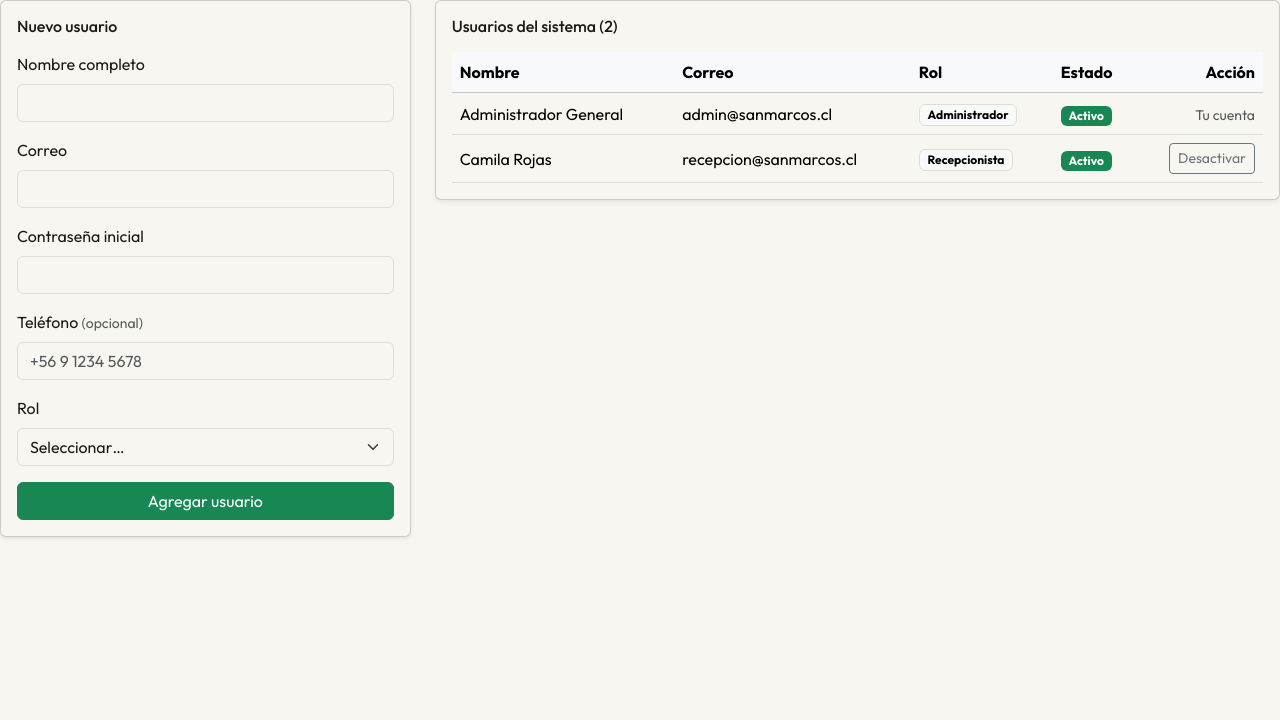
Scenario: UsuariosPanel (formulario con validación) › muestra error de correo duplicado
The width and height of the screenshot is (1280, 720).
Step 1. Type "Otra Persona" into the field labelled "Nombre completo" → (205, 103), box [17,84,394,122]
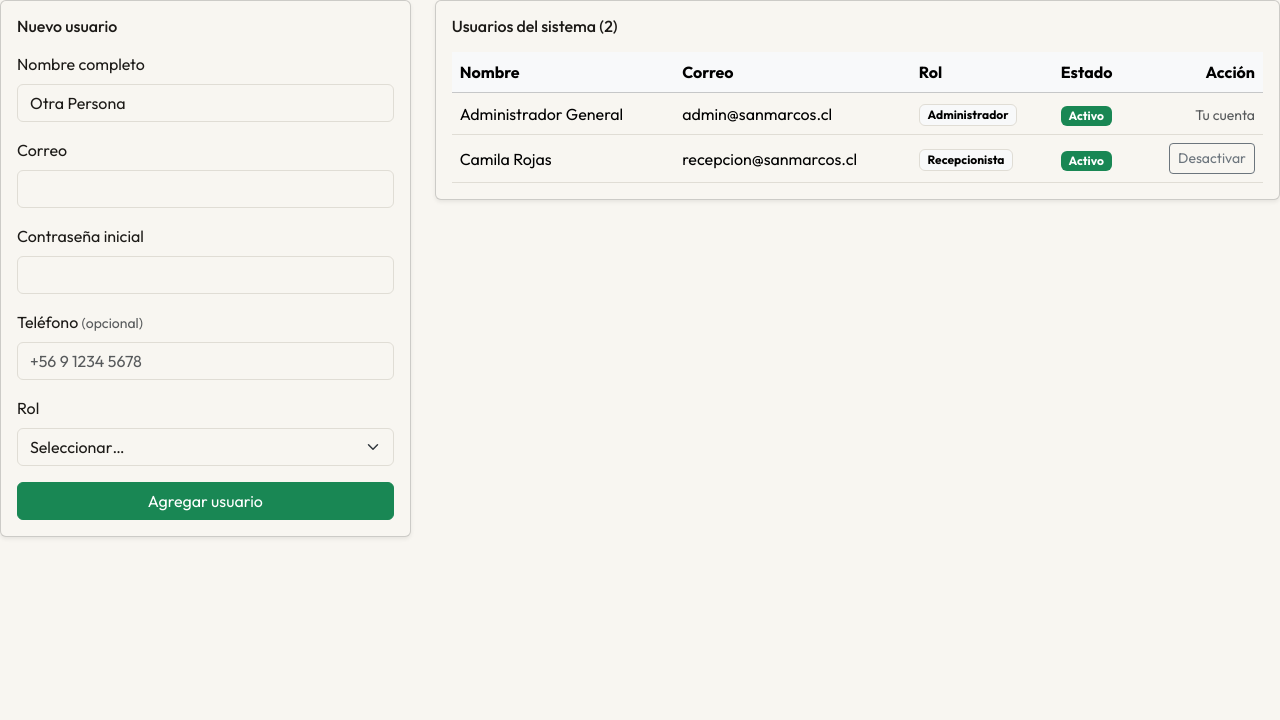
Step 2. Type "recepcion@sanmarcos.cl" into the field labelled "Correo" → (205, 189), box [17,170,394,208]
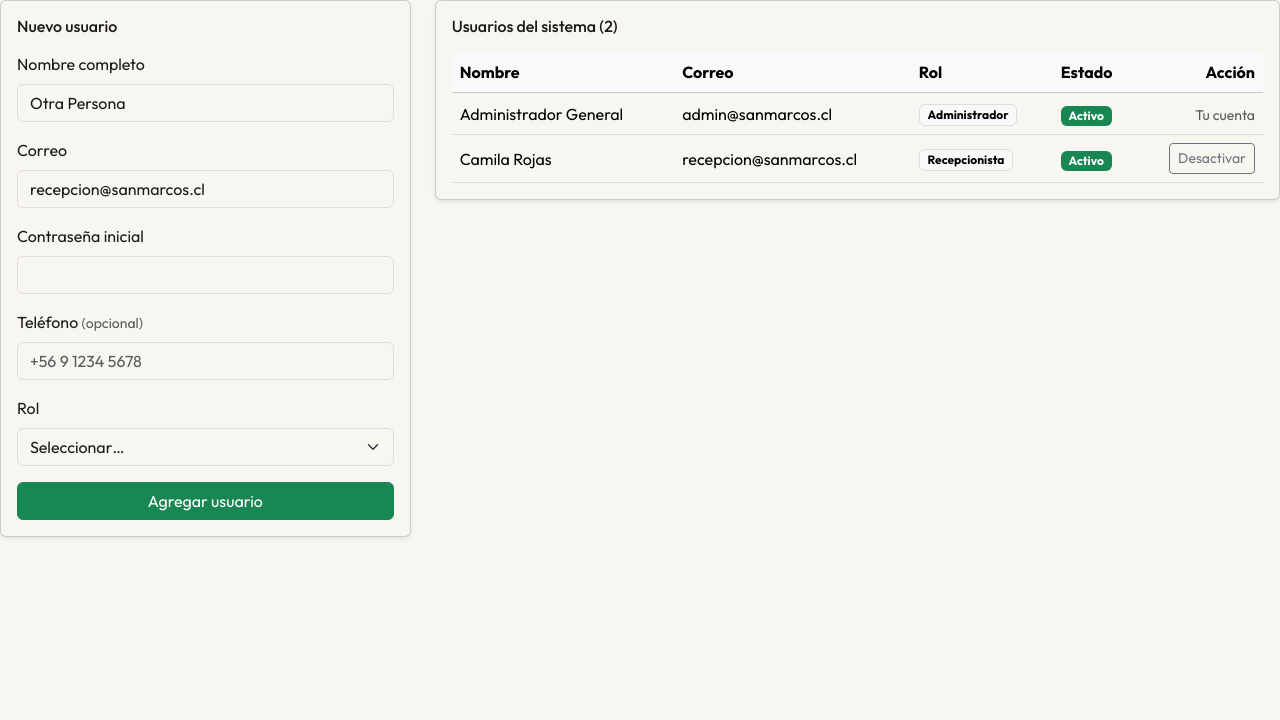
Step 3. Type "Clave1234" into the password field labelled "Contraseña inicial" → (205, 275), box [17,256,394,294]
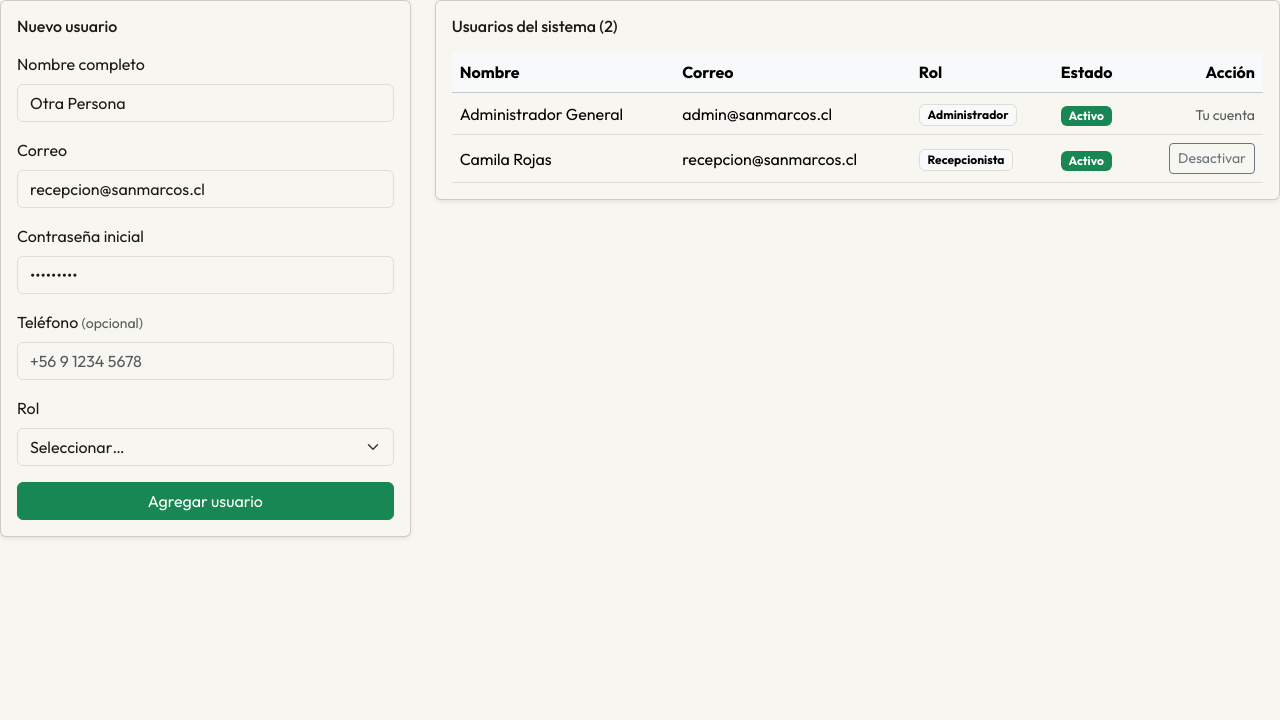
Step 4. Select "Cliente" in the dropdown labelled "Rol" → (205, 447), box [17,428,394,466]
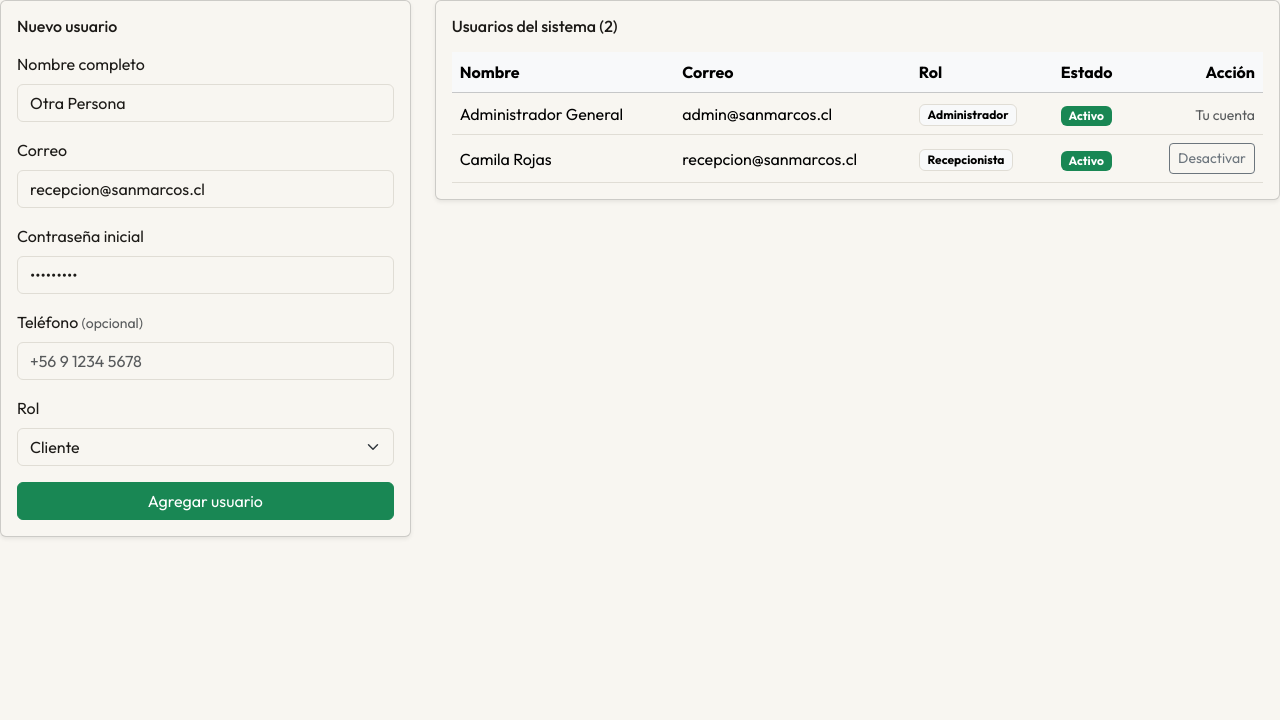
Step 5. Submit the form "Nuevo usuario", box [0,0,411,537]
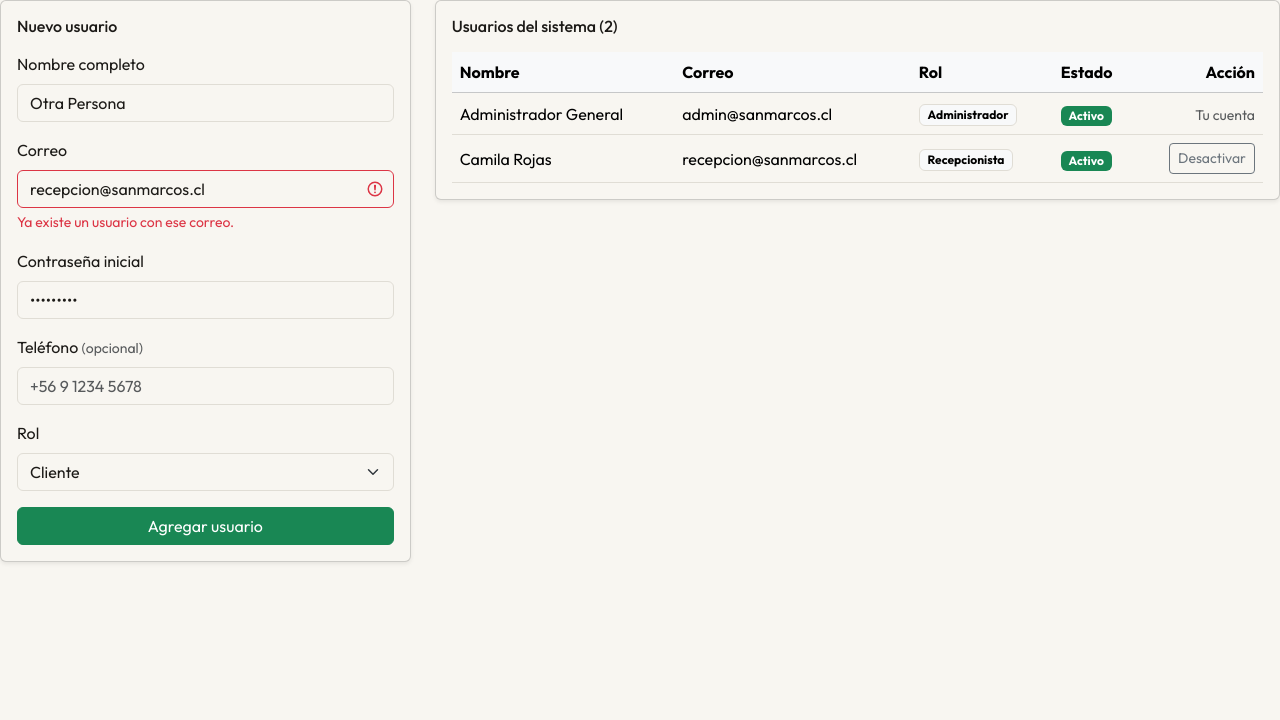
expect the text "Ya existe un usuario con ese correo." is shown: met, box [17,213,234,231]
